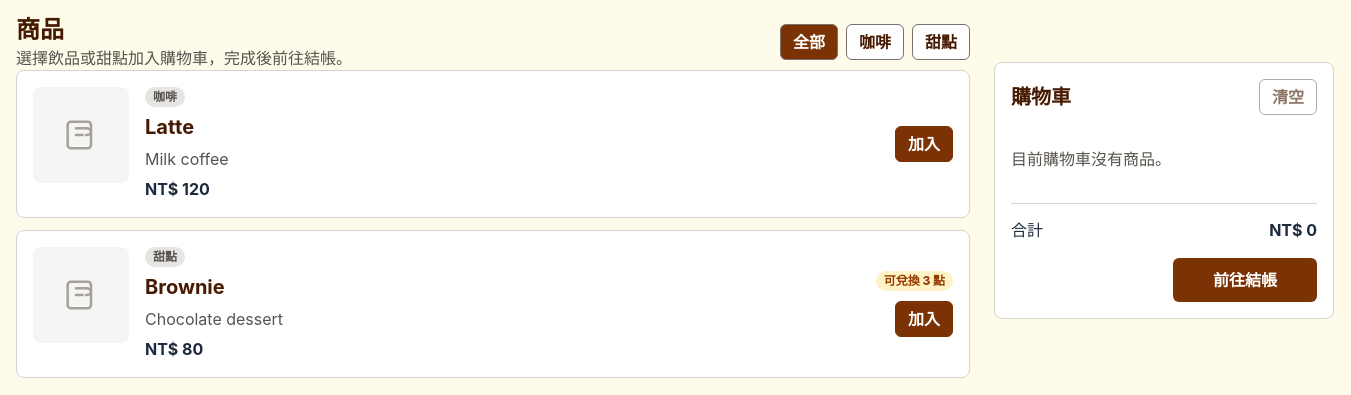
Test: ProductListView › filters products by category
Expected: the heading "Latte" is shown, [145, 115, 194, 139]
Click the button "甜點". click: click(941, 42)
box: [912, 24, 970, 60]
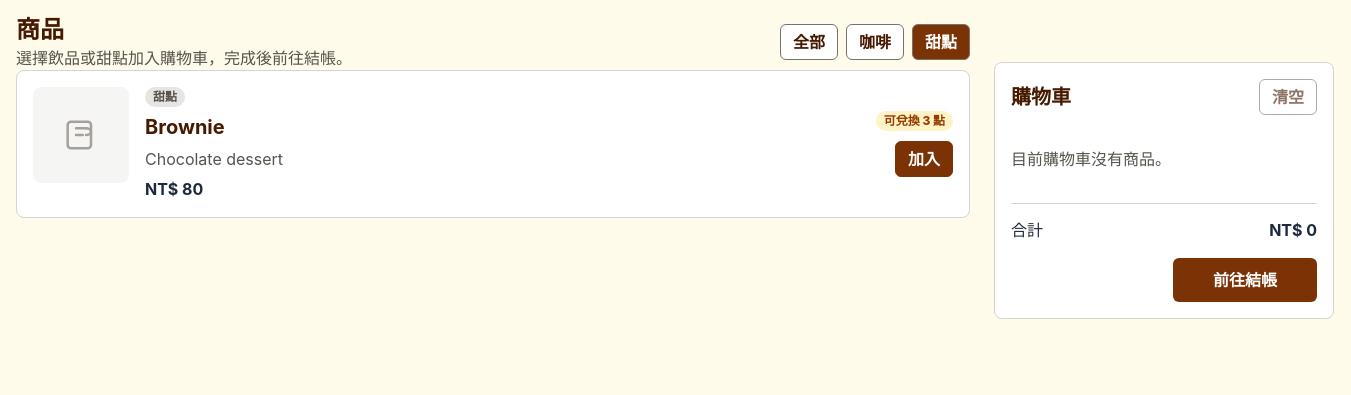
Expected: the heading "Brownie" is shown, [145, 115, 225, 139]
Now the heading "Latte" is gone
